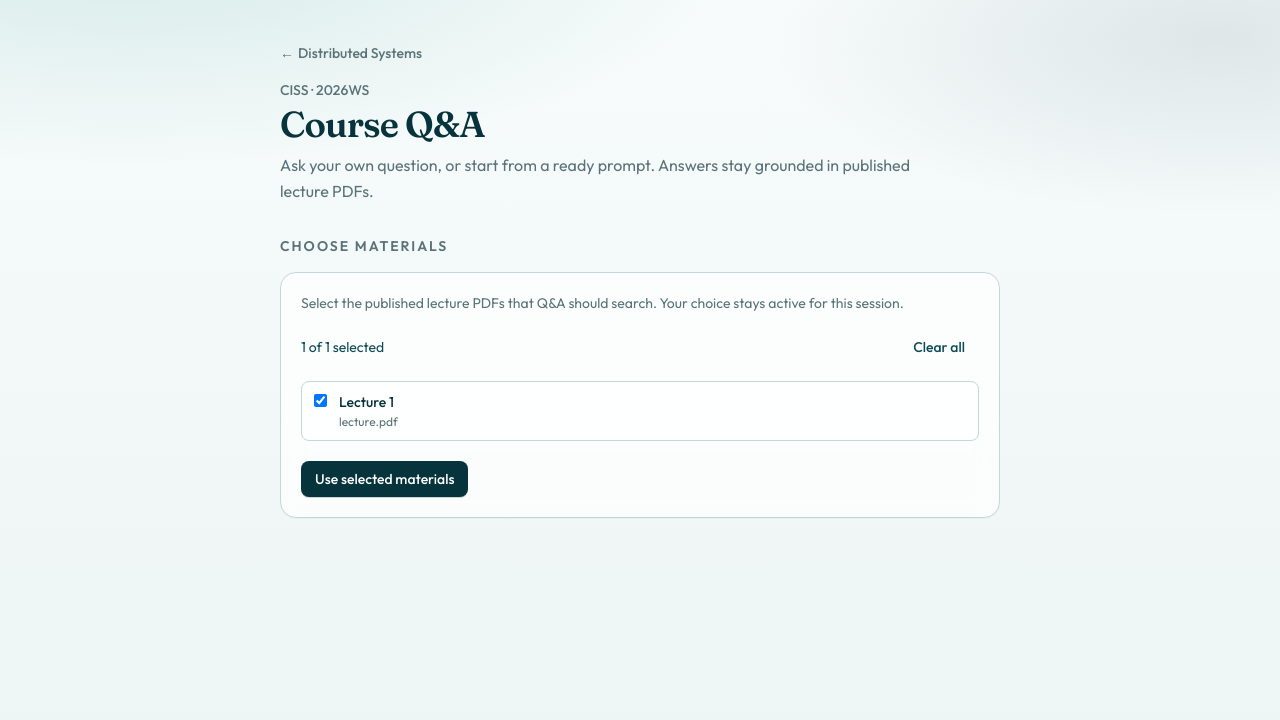
Test: course Q&A page › labels an answer without citations as no supporting passage found
Click the button "Use selected materials" at point(385, 479), box left=301, top=461, right=468, bottom=497
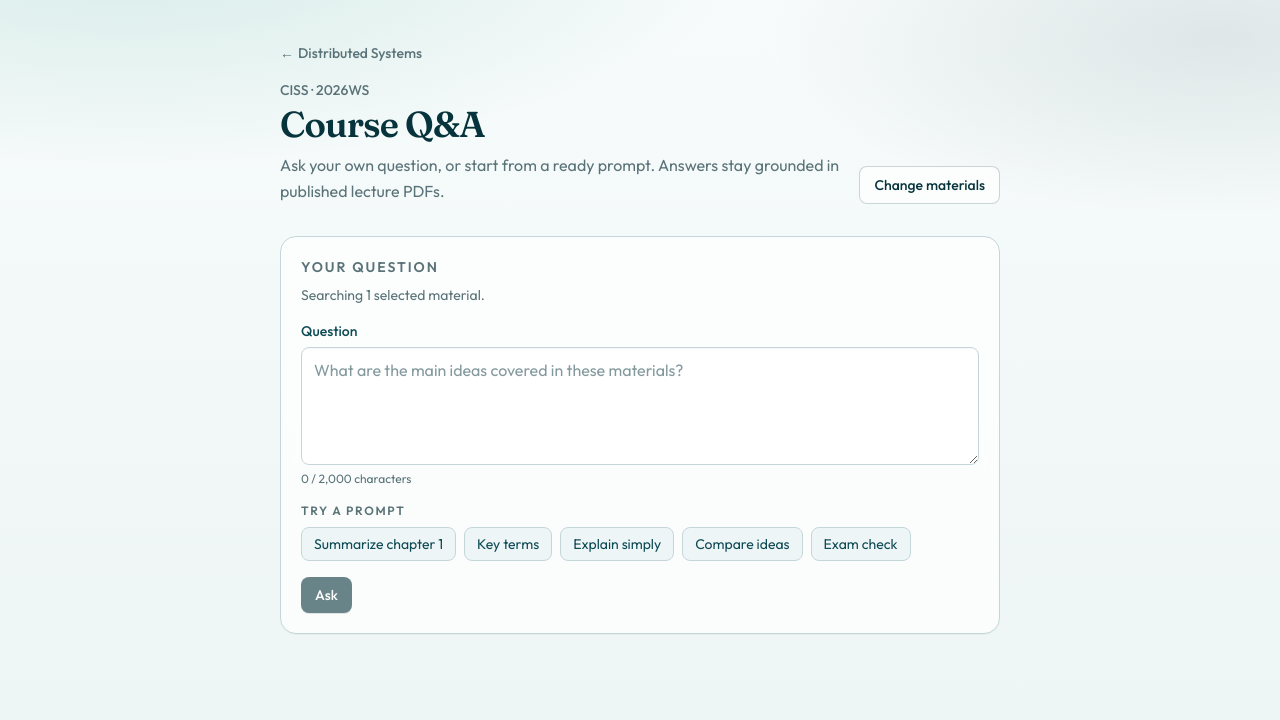
Type "What is the dining philosophers problem?" into the text box labelled "Question" at point(640, 406), box left=301, top=347, right=979, bottom=465
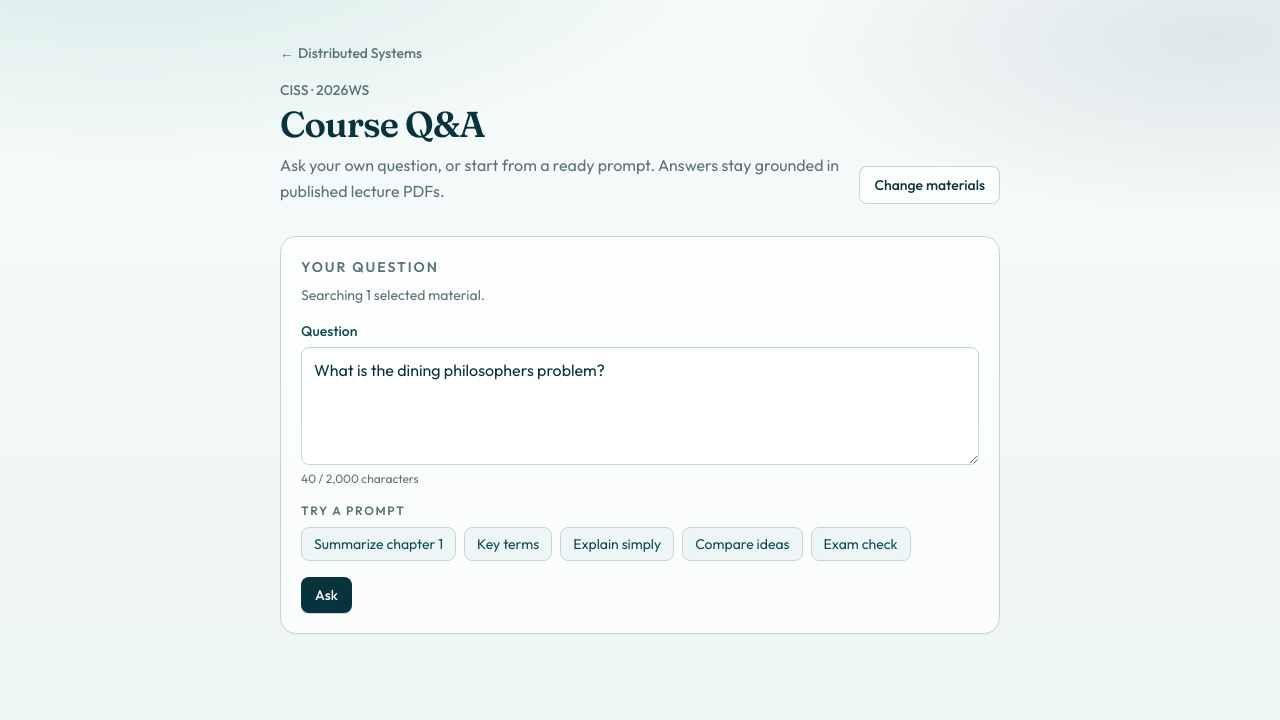
Click the button "Ask" at point(326, 595), box left=301, top=577, right=352, bottom=613
(page scrolled)
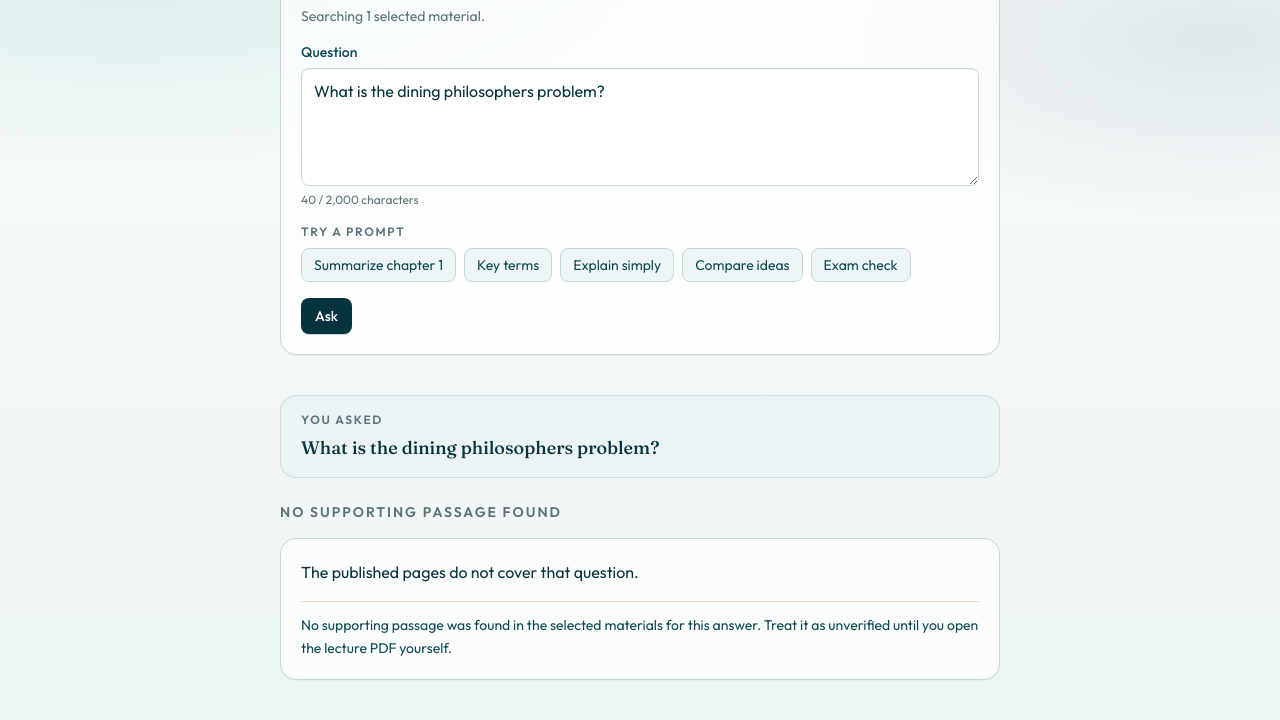
Now the heading "No supporting passage found" is shown, box left=280, top=503, right=562, bottom=521
Now the text "No supporting passage was found" is shown, box left=301, top=616, right=978, bottom=657
Now the text "The published pages do not cover that question." is shown, box left=301, top=562, right=639, bottom=582
